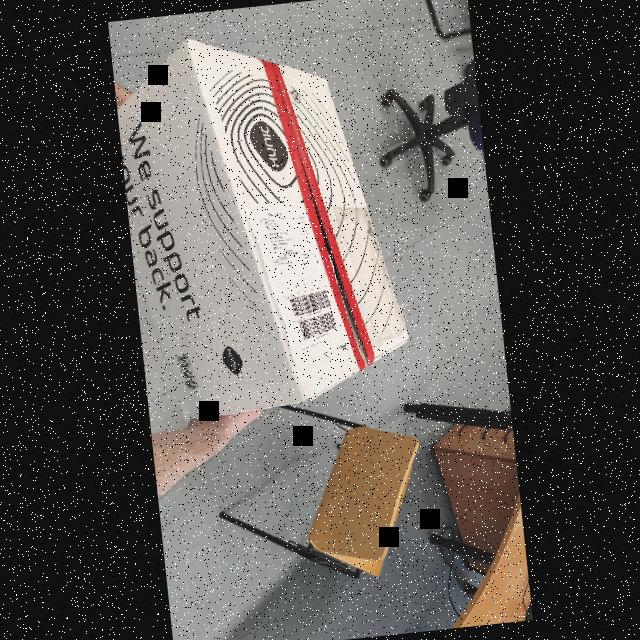cardboard_box: (111, 13, 432, 490)
